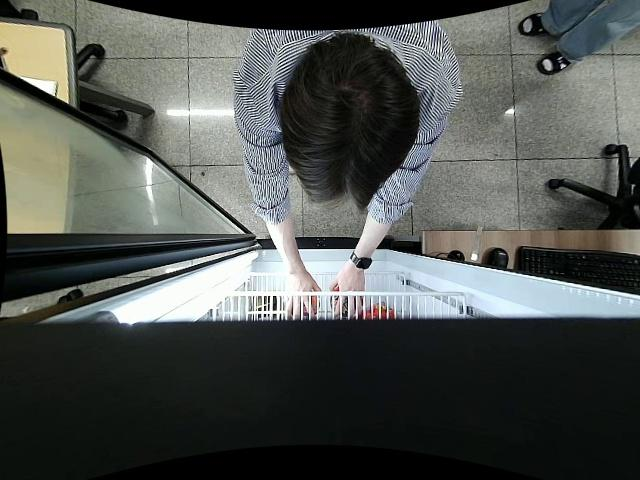00_hand: (285, 276, 322, 323), (330, 277, 367, 321)
